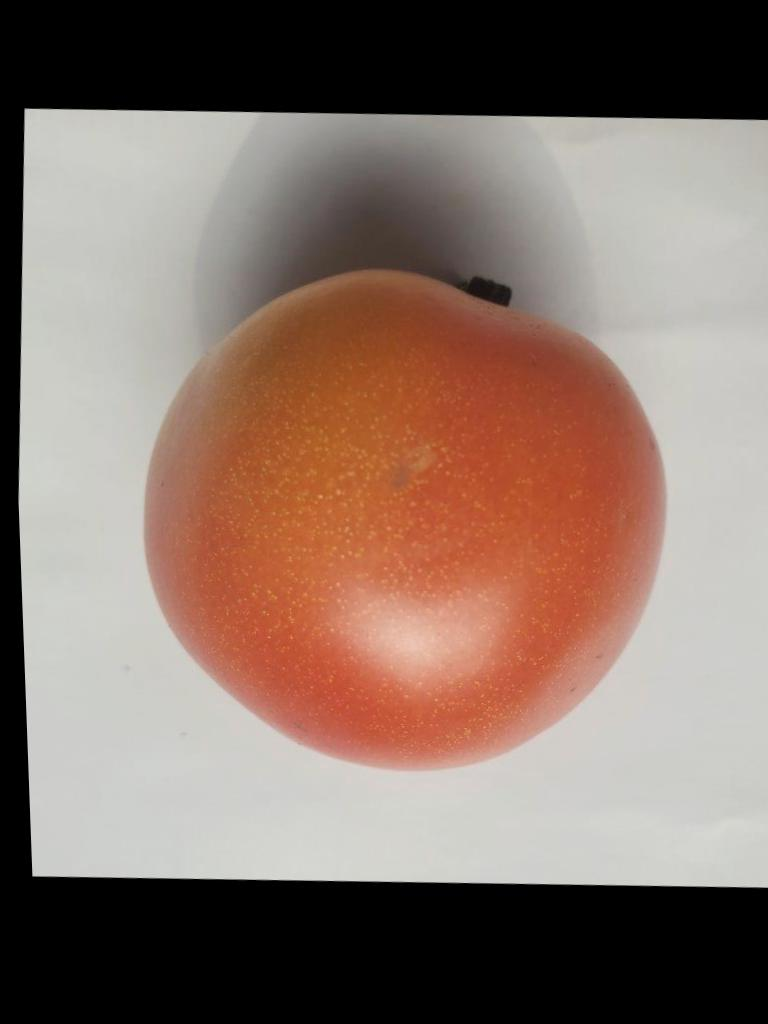tomato: (144, 270, 663, 767)
